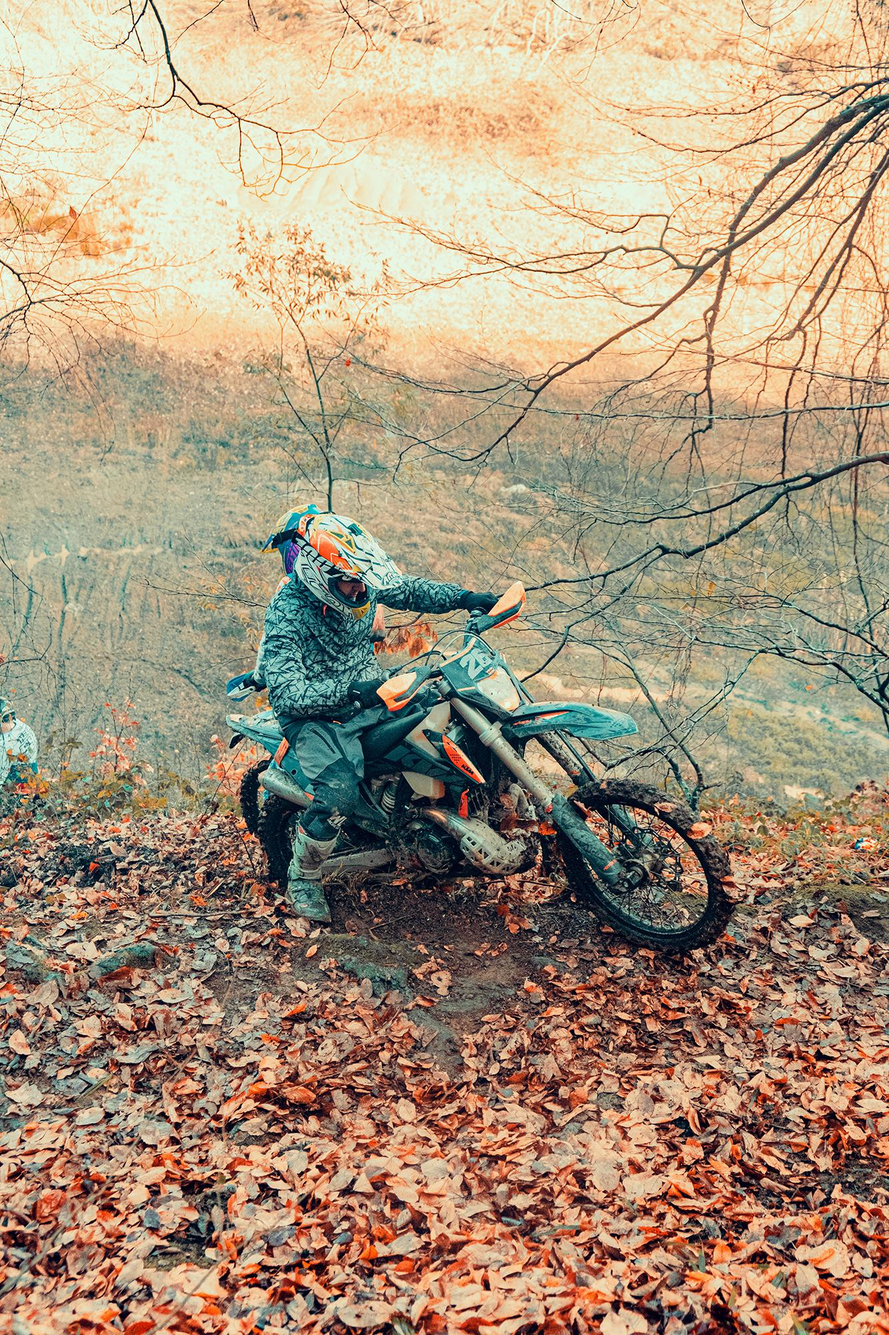helmet: (259, 503, 403, 621)
